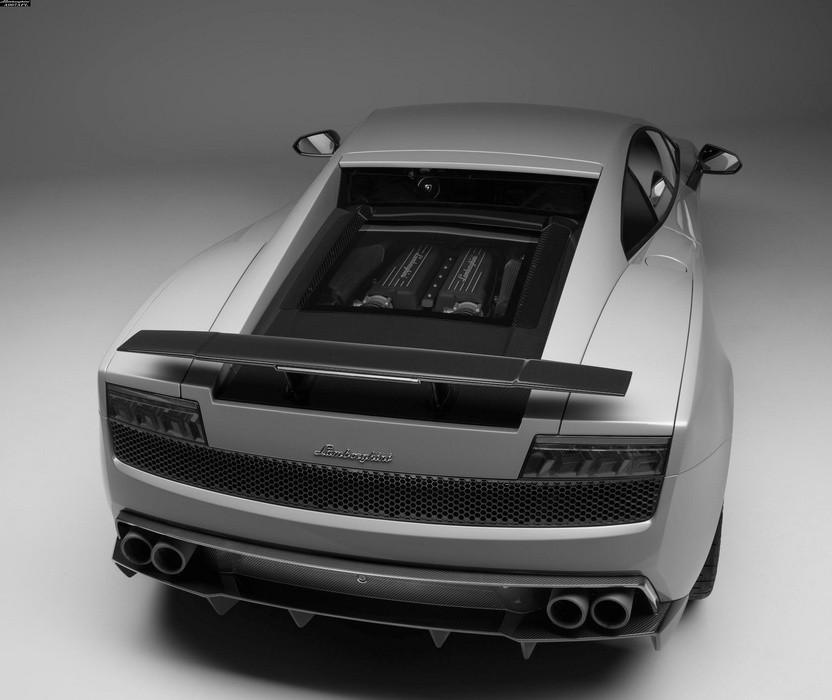car: (90, 99, 750, 678)
